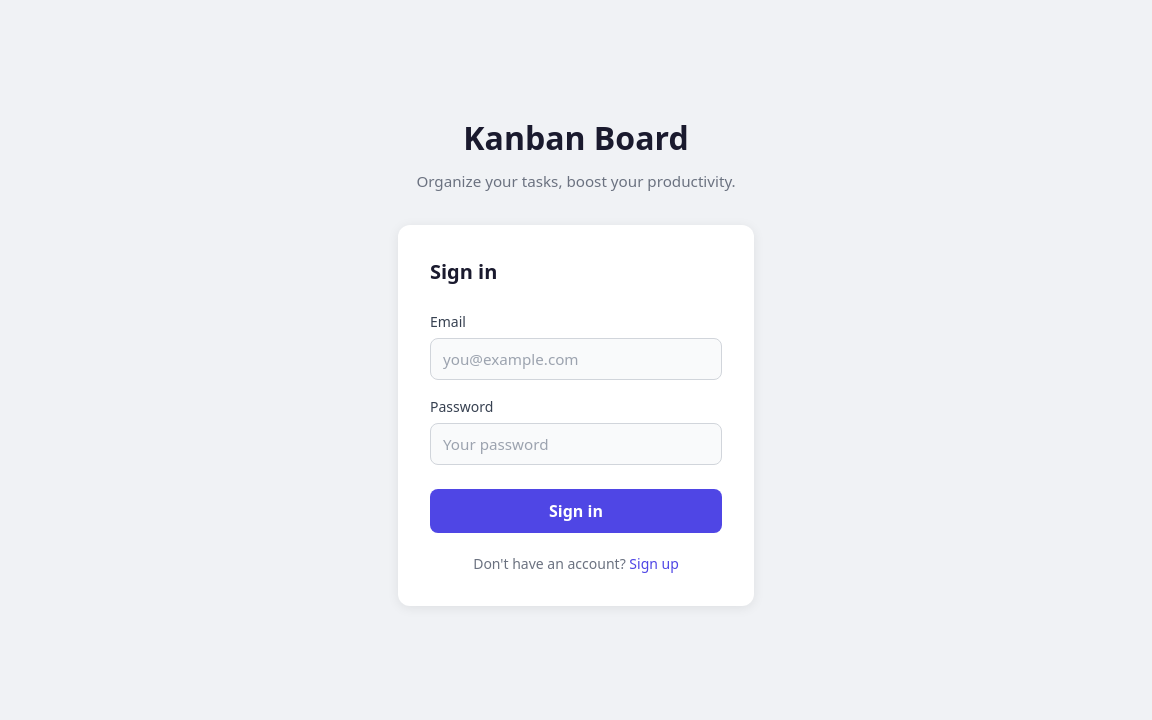
Test case: App › shows kanban board after login
Type "test@example.com" into the field labelled "Email" at (576, 359), box [430,338,722,380]
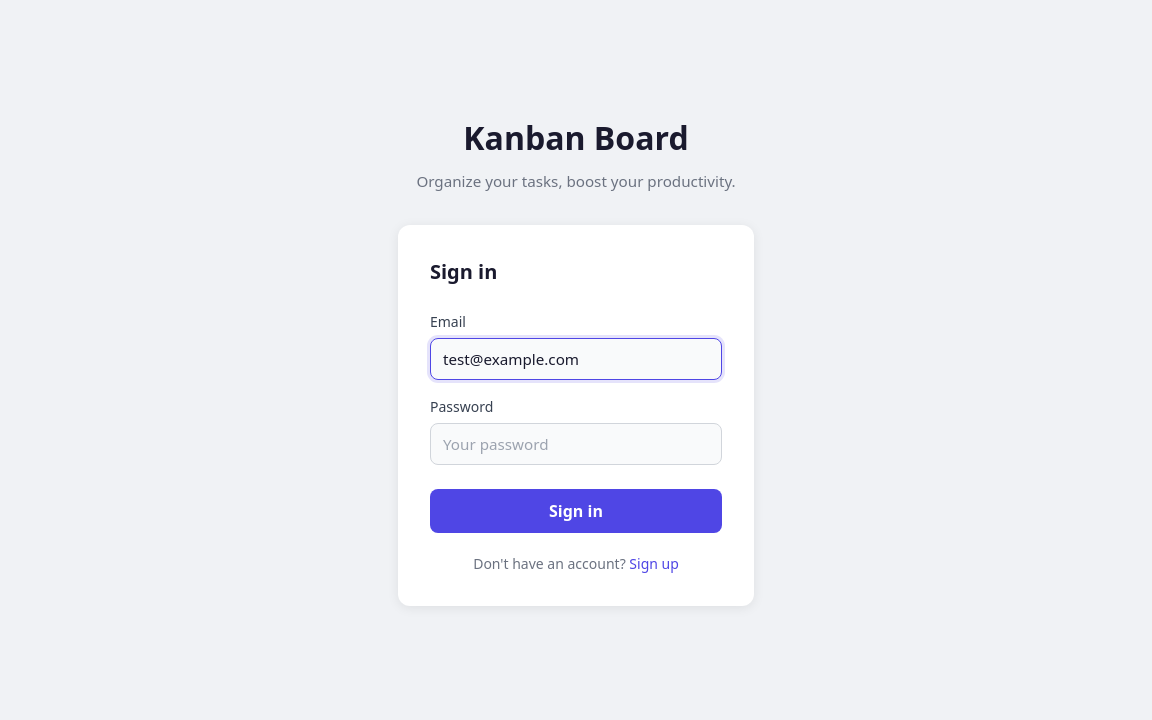
Type "password123" into the password field labelled "Password" at (576, 444), box [430,423,722,465]
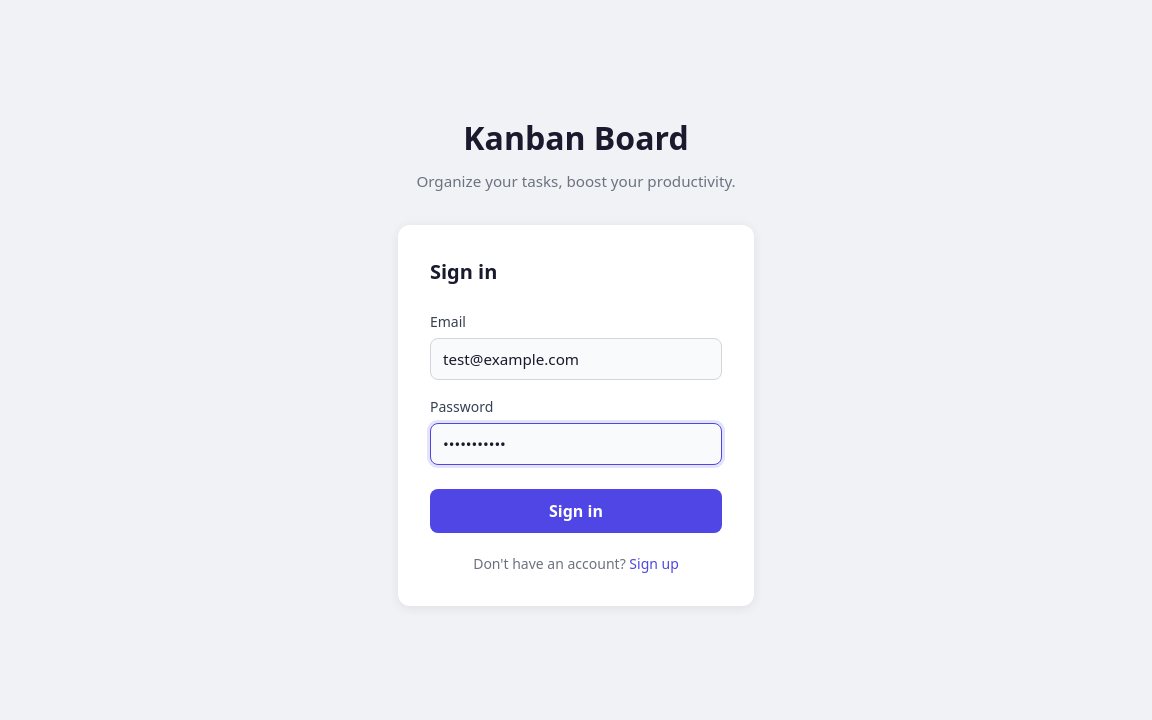
Click the button "Sign in" at (576, 511), box [430,489,722,533]
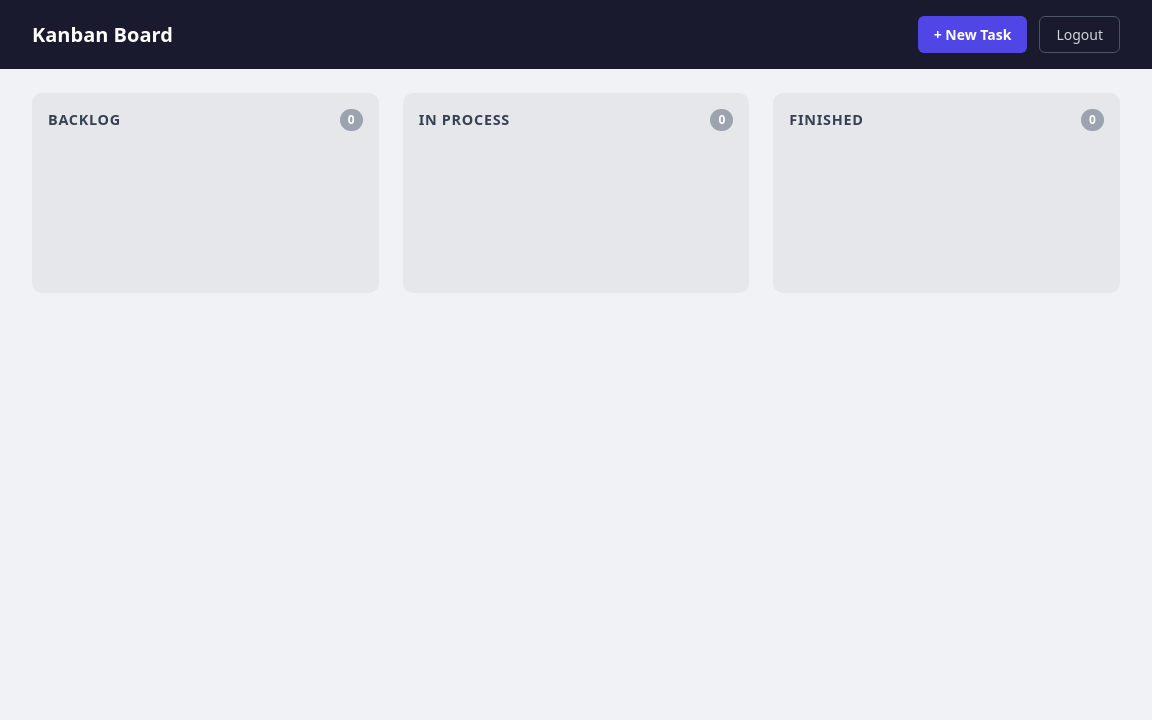
Expected: the heading "Kanban Board" is shown, [32,20,173,50]
Now the button "+ New Task" is shown, box [918,16,1027,53]
